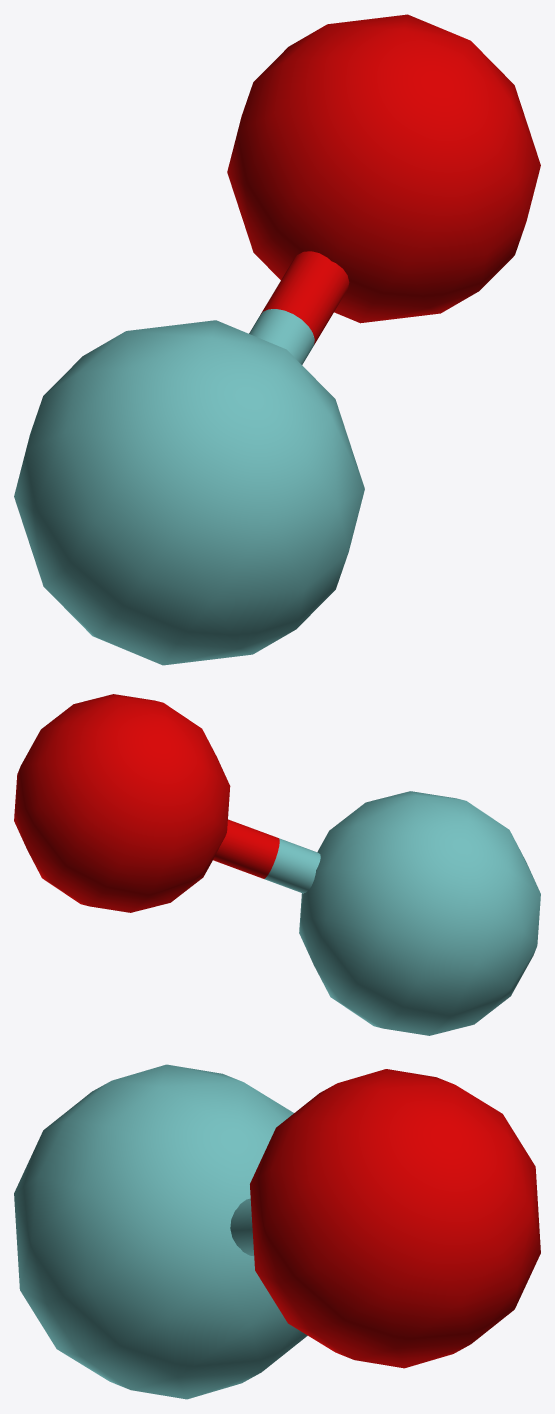
3 views of the same model, one above another, from view 1: azimuth 30°, elevation 25°; view 2: azimuth 150°, elevation 25°; view 3: azimuth 270°, elevation 25° (orthographic). The views are drawn at different scales.
Parts seen in each view (by area): view 1: vmd_mol1_rep0; view 2: vmd_mol1_rep0; view 3: vmd_mol1_rep0.
Boxes of the visible parts, left/top/right/bottom form: vmd_mol1_rep0: left=14, top=14, right=540, bottom=665; vmd_mol1_rep0: left=14, top=694, right=540, bottom=1035; vmd_mol1_rep0: left=14, top=1064, right=540, bottom=1399.
Size of the model in its own units: 0.8316 by 0.6187 by 0.6673.
